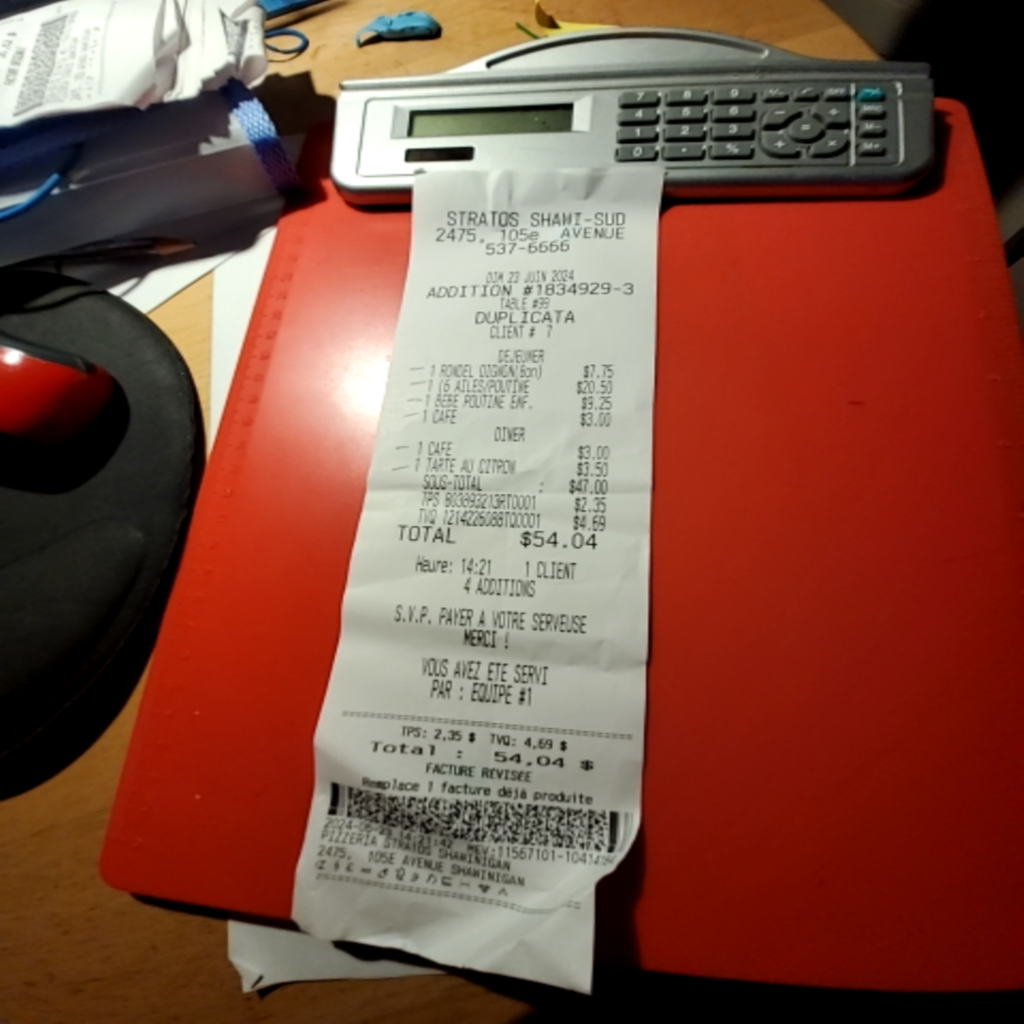recipt: (288, 178, 667, 1003)
